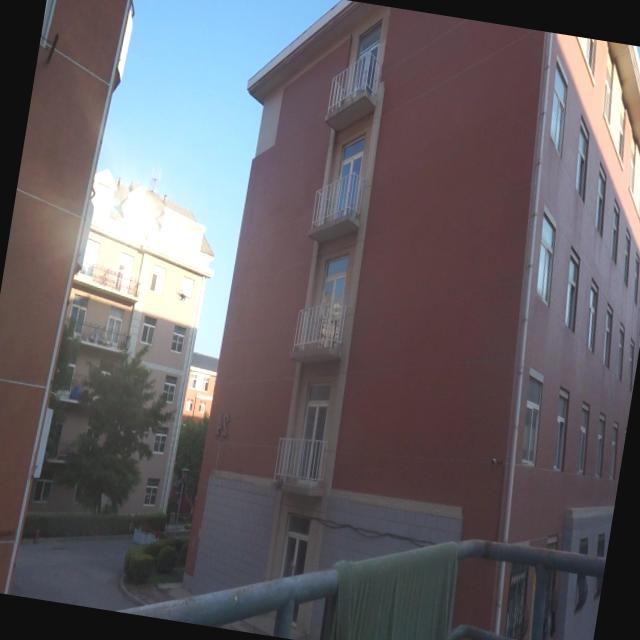drone: (174, 287, 190, 303)
